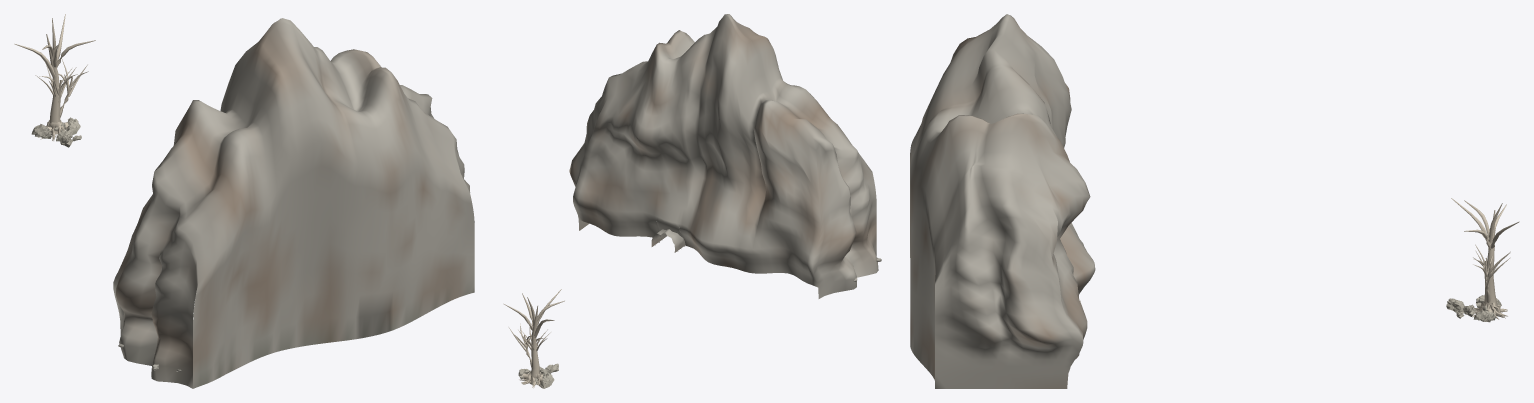
Rendered from landmarks-low.glb.
The picture shows the model from 3 angles, left to right: view 1: azimuth 30°, elevation 25°; view 2: azimuth 150°, elevation 25°; view 3: azimuth 270°, elevation 25°; orthographic projection. The views are drawn at different scales.
Visible parts, largest first — view 1: southern-cliff-rock-far, ancient-fig-wood-far, moss-gates-rock-far; view 2: southern-cliff-rock-far, ancient-fig-wood-far; view 3: southern-cliff-rock-far, ancient-fig-wood-far.
Part boxes in pixels (x1,y1,x2,y2): southern-cliff-rock-far: (113, 18, 474, 388); ancient-fig-wood-far: (14, 14, 95, 140); moss-gates-rock-far: (31, 118, 81, 147); southern-cliff-rock-far: (569, 14, 881, 298); ancient-fig-wood-far: (503, 289, 564, 388); southern-cliff-rock-far: (910, 14, 1095, 388); ancient-fig-wood-far: (1451, 198, 1519, 319).
Bounding box in the file's own units: 96.27 × 80.85 × 143.
